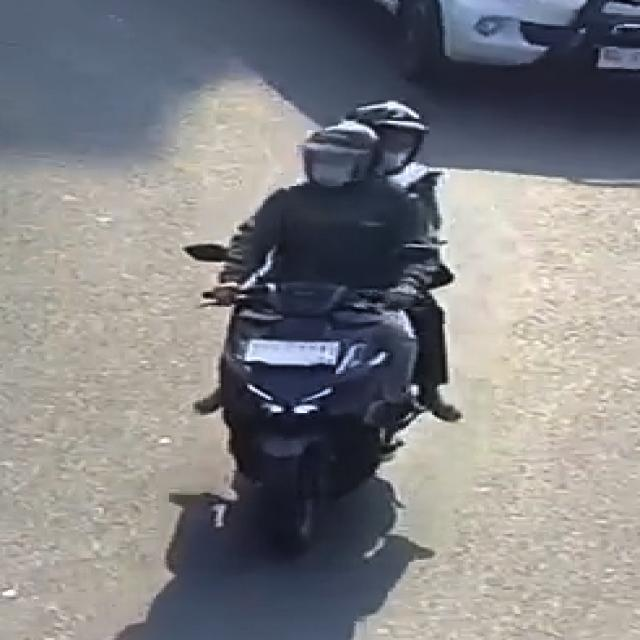motor: (169, 92, 465, 554), (337, 92, 448, 172), (292, 108, 387, 198)
spion: (311, 227, 446, 296), (177, 237, 268, 289)
